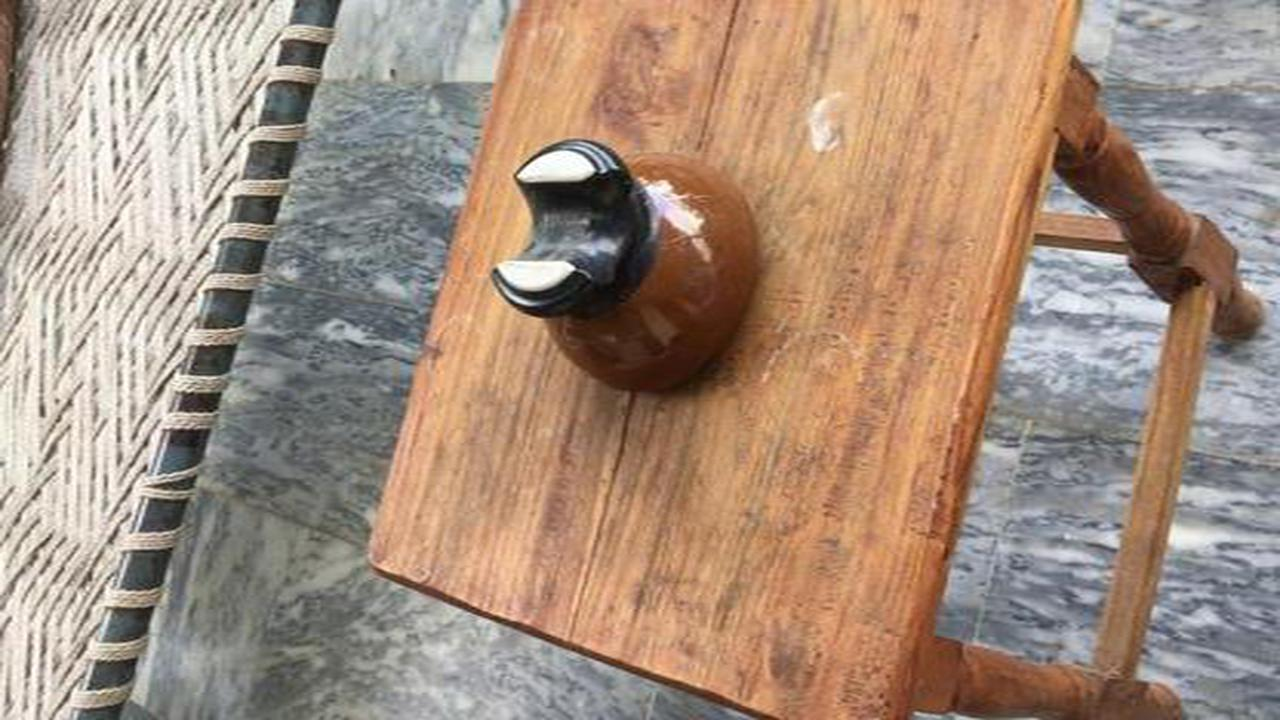insulator_pin: (481, 125, 785, 416)
